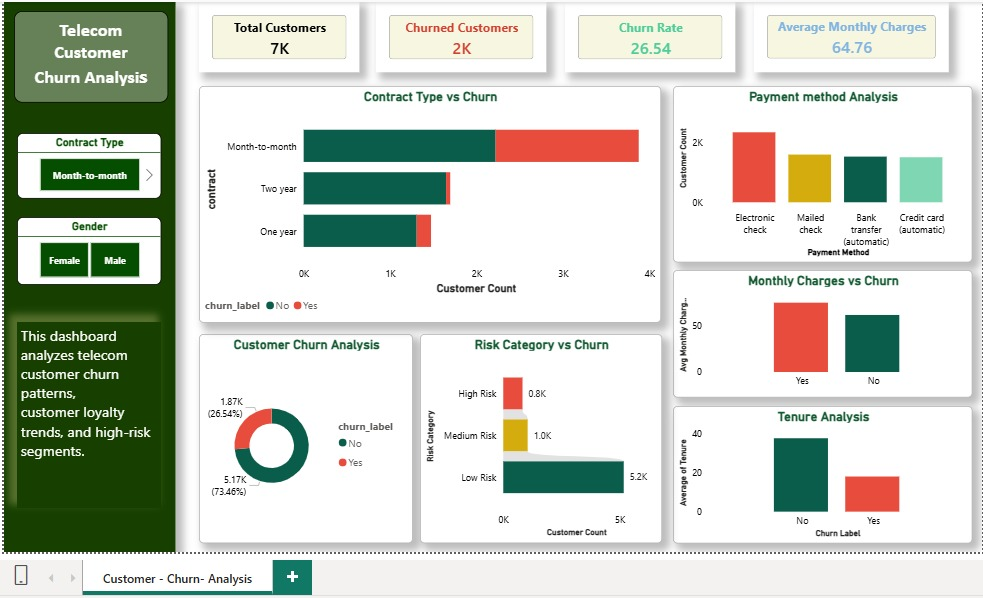

The dashboard page shown, as its layout file describes it:
{"tool":"powerbi","page":{"name":"Customer - Churn- Analysis","canvas":[1280,720],"ordinal":0},"visuals":[{"type":"cardVisual","fields":{"Data":["Cleaned_telco_customer_churn.Total Customers"]},"box":[254.9,0,210.2,92.2],"z":0},{"type":"cardVisual","fields":{"Data":["Cleaned_telco_customer_churn.Churned Customers"]},"box":[486.7,0,223.2,92.2],"z":1000},{"type":"cardVisual","fields":{"Data":["Cleaned_telco_customer_churn.Churn Rate"]},"box":[734.4,0,223.2,92.2],"z":2000},{"type":"cardVisual","fields":{"Data":["Cleaned_telco_customer_churn.Average Monthly Charges"]},"box":[981.8,0,255.3,91.6],"z":3000},{"type":"donutChart","title":"Customer Churn Analysis","fields":{"Category":["Cleaned_telco_customer_churn.churn_label"],"Y":["CountNonNull(Cleaned_telco_customer_churn.customerID)"]},"box":[255.3,434.6,280.1,273.6],"z":4000},{"type":"barChart","title":"Contract Type vs Churn","fields":{"Series":["Cleaned_telco_customer_churn.churn_label"],"Y":["CountNonNull(Cleaned_telco_customer_churn.customerID)"],"Category":["Cleaned_telco_customer_churn.contract"]},"box":[254.9,109.4,604.8,309.6],"z":5000},{"type":"clusteredColumnChart","title":"Payment method Analysis","fields":{"Category":["Cleaned_telco_customer_churn.payment_method"],"Y":["CountNonNull(Cleaned_telco_customer_churn.customerID)"]},"box":[875.4,110.1,392.3,231.2],"z":6000},{"type":"clusteredColumnChart","title":"Monthly Charges vs Churn","fields":{"Y":["Avg(Cleaned_telco_customer_churn.monthly_charges)"],"Category":["Cleaned_telco_customer_churn.churn_label"]},"box":[875.4,351,392.3,166.5],"z":7000},{"type":"clusteredColumnChart","title":"Tenure Analysis","fields":{"Y":["Avg(Cleaned_telco_customer_churn.tenure_months)"],"Category":["Cleaned_telco_customer_churn.churn_label"]},"box":[875.4,528.5,392.3,180.3],"z":8000},{"type":"barChart","title":"Risk Category vs Churn","fields":{"Category":["Cleaned_telco_customer_churn.Risk Category"],"Y":["CountNonNull(Cleaned_telco_customer_churn.customerID)"]},"box":[544.6,434.6,316.8,273.6],"z":9000},{"type":"shape","box":[0,0,224.6,720],"z":9500},{"type":"slicer","title":"Gender","fields":{"Values":["Cleaned_telco_customer_churn.gender"]},"box":[17.3,280.8,188.6,89.3],"z":10000},{"type":"slicer","title":"Contract Type","fields":{"Values":["Cleaned_telco_customer_churn.contract"]},"box":[17.3,171.4,188.6,86.4],"z":11000},{"type":"textbox","box":[13,11.5,201.6,119.5],"z":13000},{"type":"textbox","box":[17.3,419,188.6,243.4],"z":13001}]}

Visuals, with their boxes in screenshot pixels (x1, y1, x2, y2):
cardVisual - Cleaned_telco_customer_churn.Total Customers: bbox(200, 0, 365, 70)
cardVisual - Cleaned_telco_customer_churn.Churned Customers: bbox(382, 0, 557, 70)
cardVisual - Cleaned_telco_customer_churn.Churn Rate: bbox(577, 0, 752, 70)
cardVisual - Cleaned_telco_customer_churn.Average Monthly Charges: bbox(771, 0, 971, 69)
"Customer Churn Analysis" donutChart: bbox(200, 339, 420, 554)
"Contract Type vs Churn" barChart: bbox(200, 83, 675, 326)
"Payment method Analysis" clusteredColumnChart: bbox(687, 84, 982, 265)
"Monthly Charges vs Churn" clusteredColumnChart: bbox(687, 273, 982, 404)
"Tenure Analysis" clusteredColumnChart: bbox(687, 412, 982, 554)
"Risk Category vs Churn" barChart: bbox(428, 339, 676, 554)
shape: bbox(0, 0, 176, 563)
"Gender" slicer: bbox(14, 218, 162, 288)
"Contract Type" slicer: bbox(14, 132, 162, 200)
textbox: bbox(10, 6, 169, 100)
textbox: bbox(14, 326, 162, 518)
